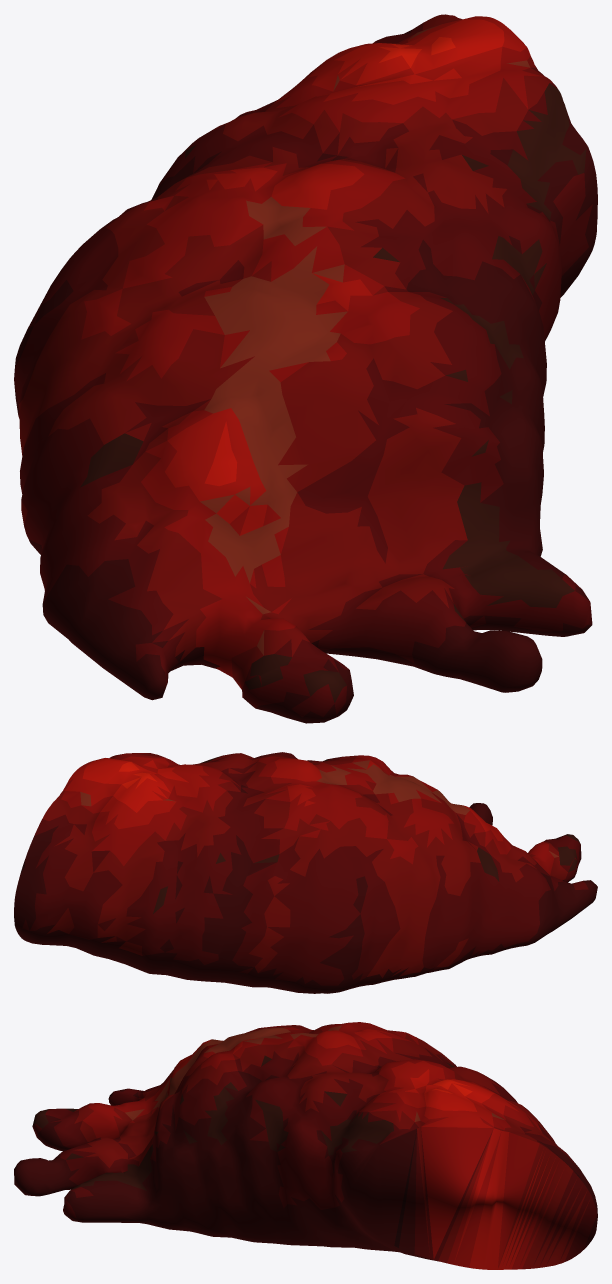
File: red_mound_a_l.glb
The picture shows the model from 3 angles, top to bottom: view 1: azimuth 30°, elevation 25°; view 2: azimuth 150°, elevation 25°; view 3: azimuth 270°, elevation 25°; orthographic projection. The views are drawn at different scales.
Parts seen in each view (by area): view 1: red_mound_a_l; view 2: red_mound_a_l; view 3: red_mound_a_l.
Boxes of the visible parts, bbox=[...] form: red_mound_a_l: bbox=[14, 14, 597, 723]; red_mound_a_l: bbox=[14, 752, 597, 993]; red_mound_a_l: bbox=[14, 1022, 597, 1269].
Size of the model in its own units: 21.85 by 10.33 by 29.26.
